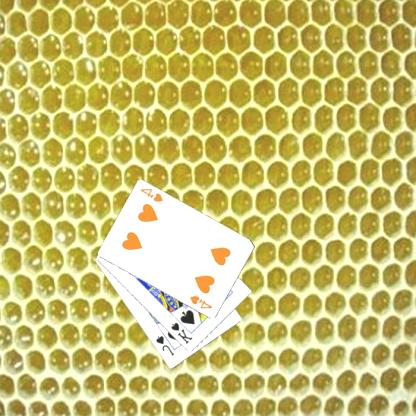4H: (140, 186, 166, 204), (189, 293, 215, 310)
JS: (155, 333, 177, 357)
KS: (170, 320, 195, 345)
